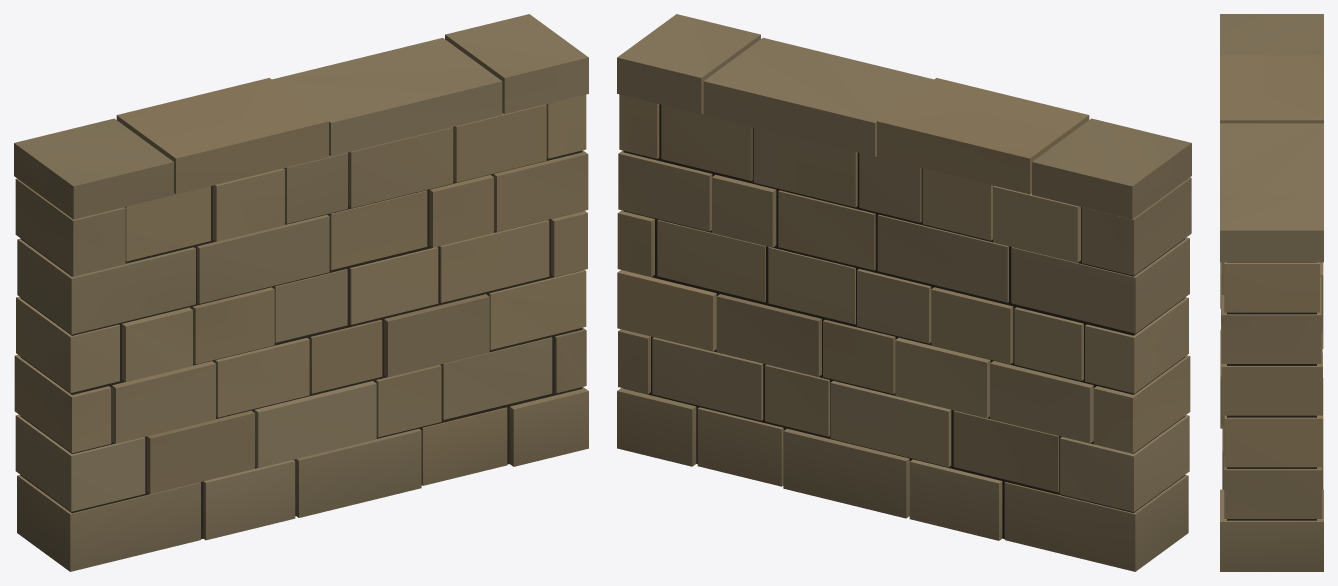
The model's file is wall.stone.sandstone.glb.
The picture shows the model from 3 angles, left to right: view 1: azimuth 30°, elevation 25°; view 2: azimuth 150°, elevation 25°; view 3: azimuth 270°, elevation 25°; orthographic projection. The views are drawn at different scales.
Visible parts, largest first — view 1: wall_stone_sandstone; view 2: wall_stone_sandstone; view 3: wall_stone_sandstone.
Part boxes in pixels (x1=…): wall_stone_sandstone: x1=14, y1=14, x2=588, y2=571; wall_stone_sandstone: x1=617, y1=14, x2=1191, y2=571; wall_stone_sandstone: x1=1220, y1=14, x2=1323, y2=571.
Size of what is drawn, in the model's own units: 1.93 by 1.4 by 0.386.
